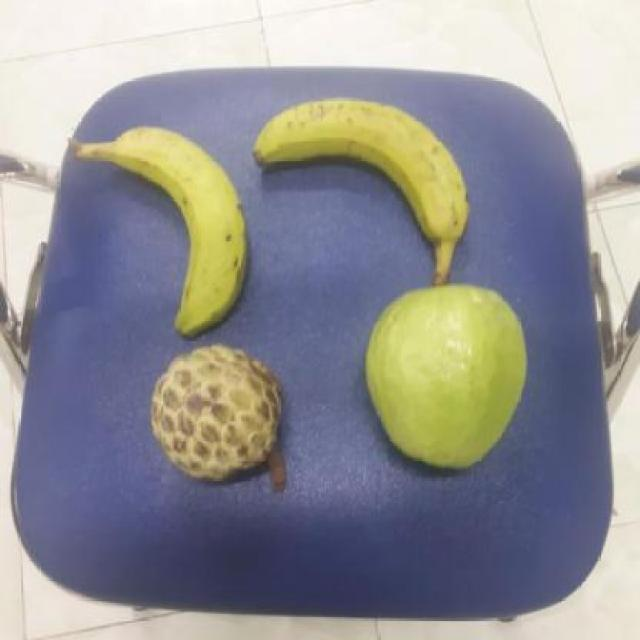banana: (248, 99, 474, 276), (98, 118, 247, 338)
guava: (365, 282, 527, 469)
sugar apple: (152, 339, 283, 479)
